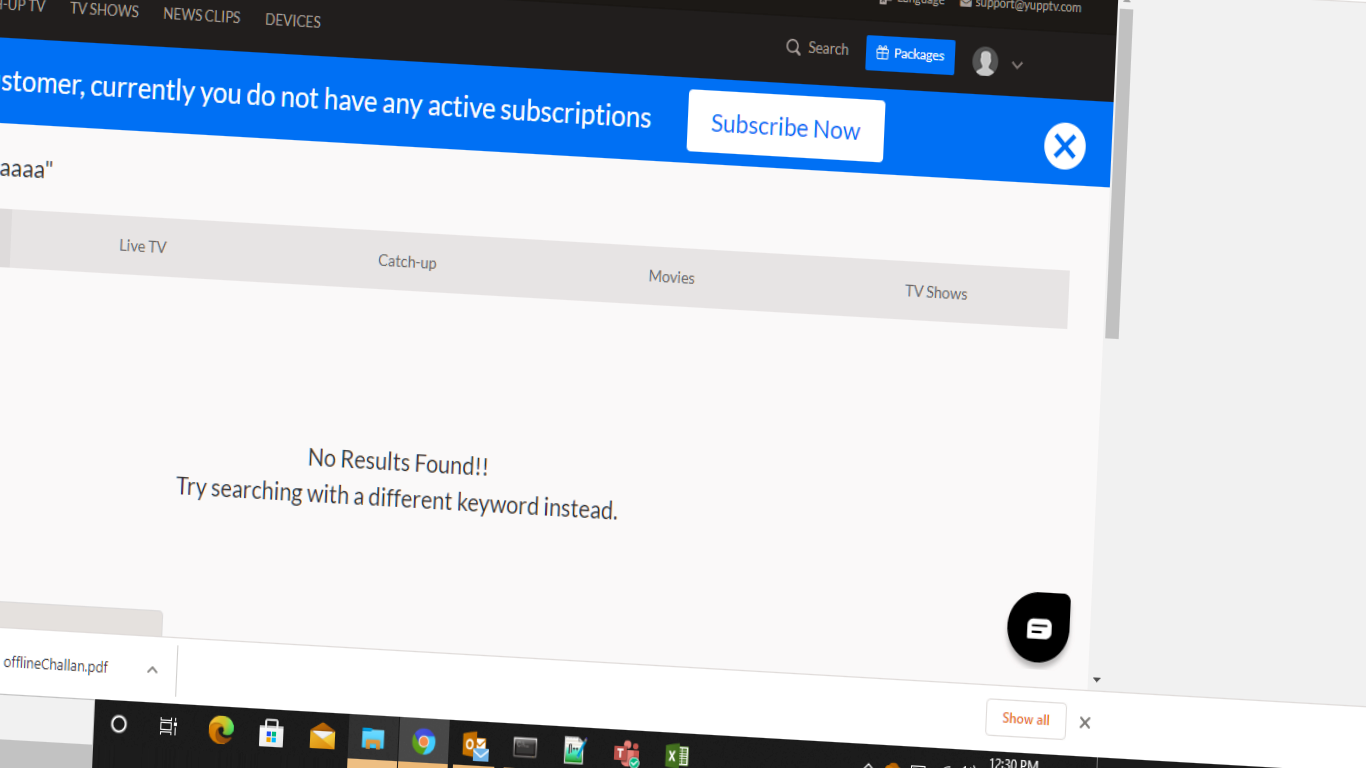noresultsfound: (160, 427, 623, 538), (1, 157, 68, 198)
profileicon: (959, 35, 1031, 86)
searchicon: (778, 26, 861, 72)
